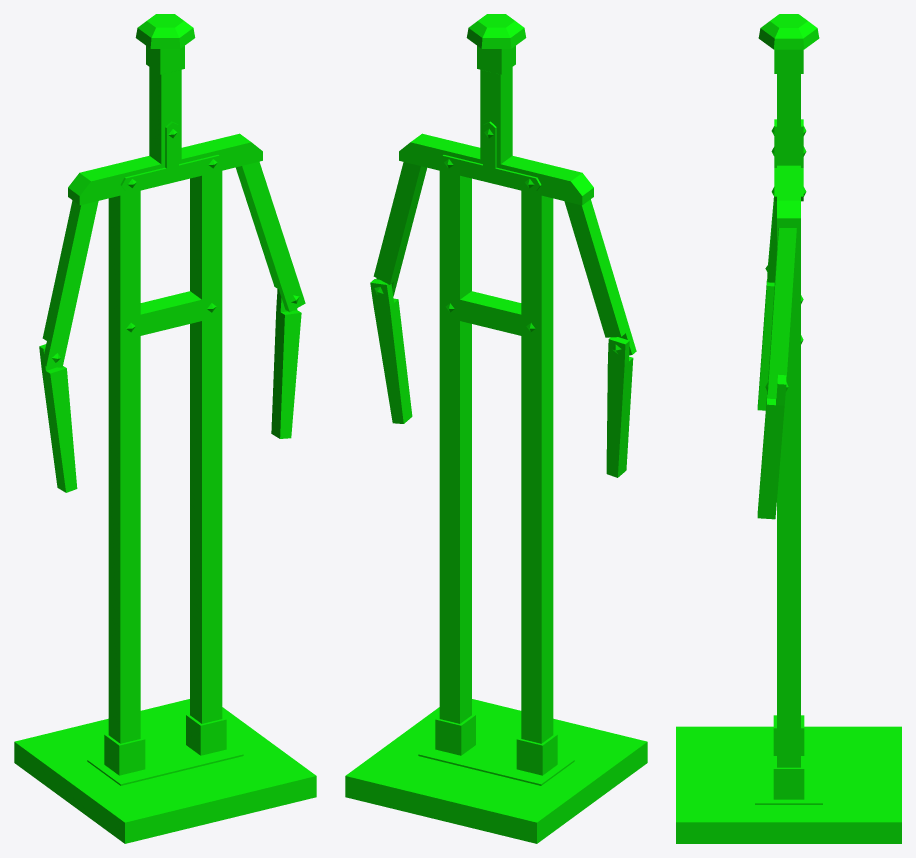
The model's file is SM_Stand_Armor_Fantasy.fbx.
3 renders of one model, left to right at view 1: azimuth 30°, elevation 25°; view 2: azimuth 150°, elevation 25°; view 3: azimuth 270°, elevation 25°, orthographic. The views are drawn at different scales.
Parts seen in each view (by area): view 1: stand-armor-fantasy; view 2: stand-armor-fantasy; view 3: stand-armor-fantasy.
Boxes of the visible parts, x1,y1,x2,y2 form: stand-armor-fantasy: [14, 14, 316, 843]; stand-armor-fantasy: [345, 14, 647, 843]; stand-armor-fantasy: [676, 14, 901, 843].
Bounding box in the file's own units: 0.6368 × 1.78 × 0.4706.
